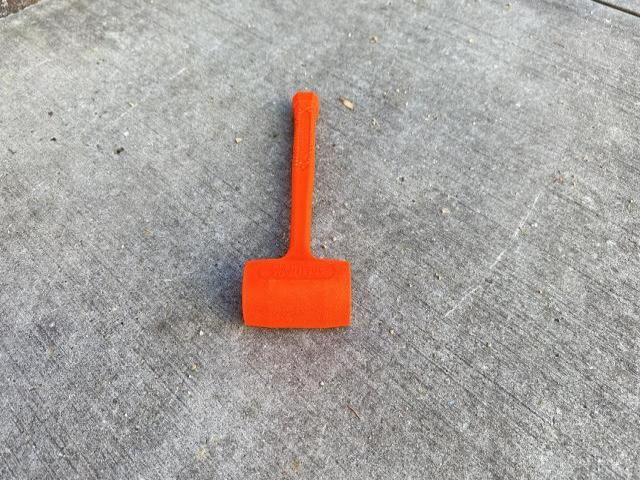hammer: (243, 90, 352, 325)
